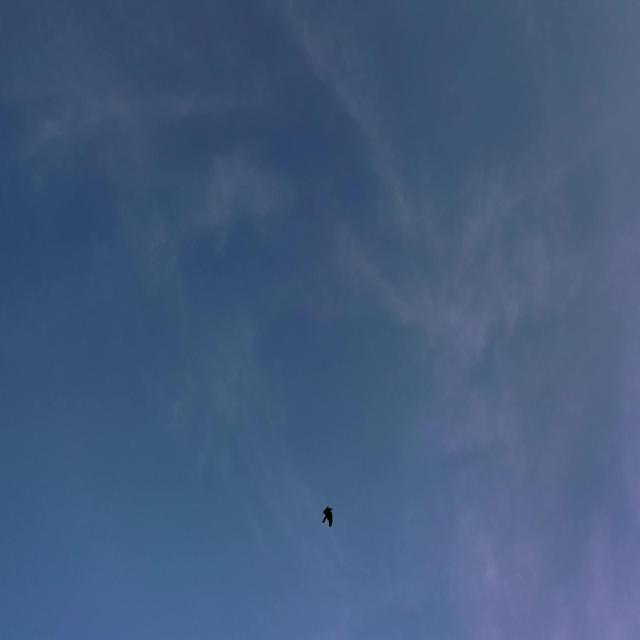Birds: (311, 496, 343, 538)
